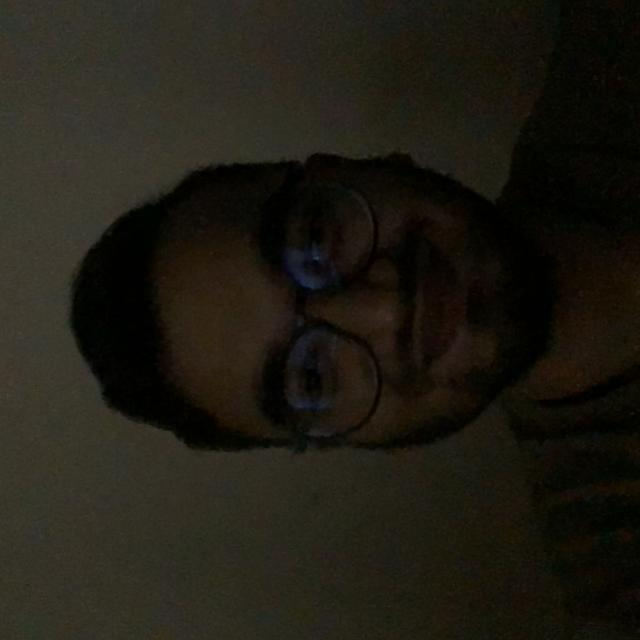Happy: (38, 108, 554, 527)
